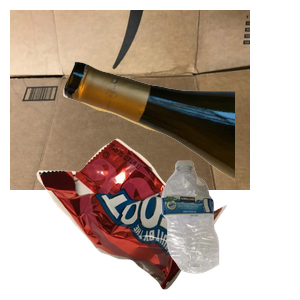cardboard: (10, 10, 250, 190)
glass: (60, 59, 300, 231)
plastic: (159, 158, 300, 300)
trash: (34, 136, 253, 300)
